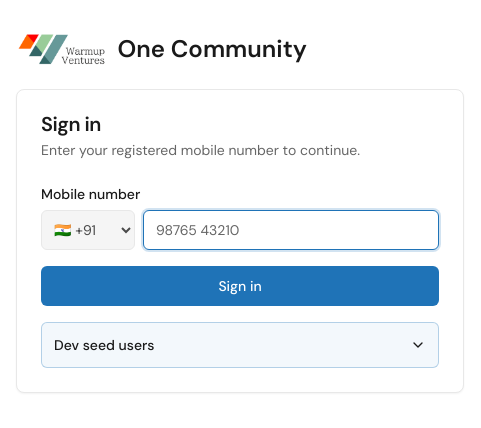
it: SignInPage integration › shows inline error when verification fails (unregistered or rejected phone)
The width and height of the screenshot is (481, 428).
In the field labelled "Mobile number": (291, 230) [143,210,439,250], type "1234567892"
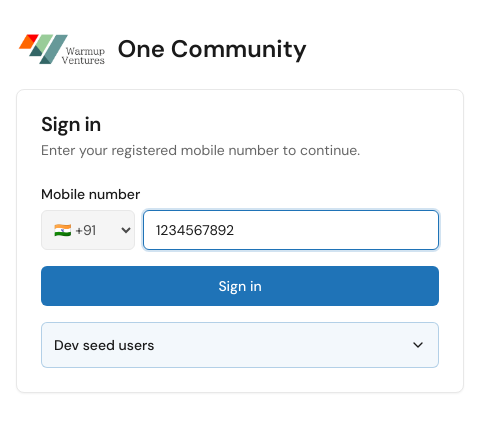
Click the button "Sign in": (240, 286) [41,266,439,306]
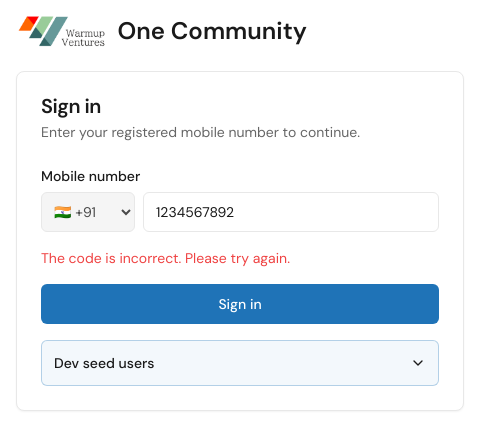
Now the text "The code is incorrect. Please try again." is shown, box [41,249,290,267]
